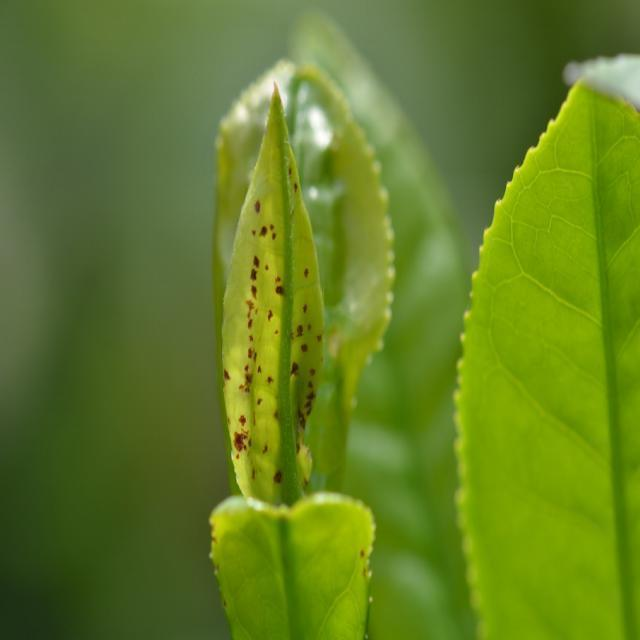Tea red scab: (224, 170, 325, 473)
